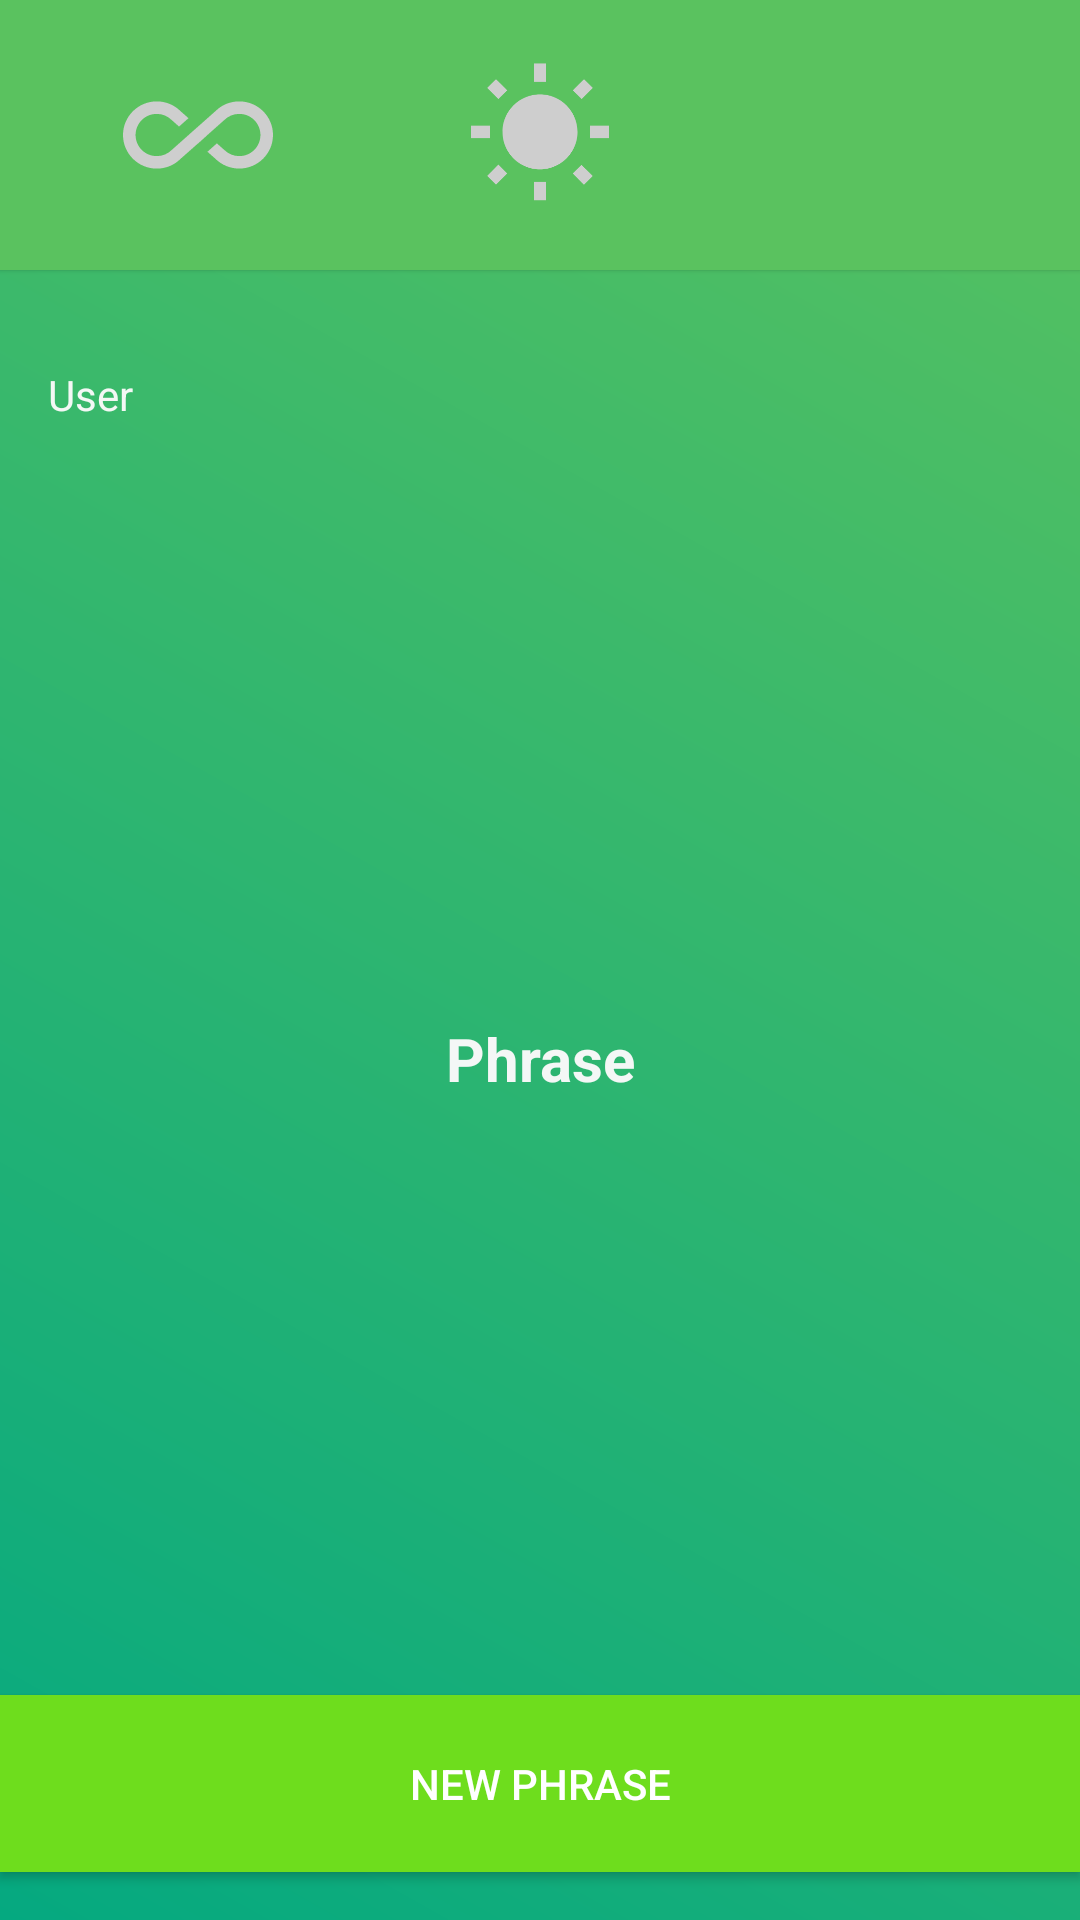

Icon bounding boxes for this 1080 × 1920 phone screenshot, format (left=x1, top=y1, right=x2, bottom=y2):
all: (left=123, top=101, right=273, bottom=169)
sun: (left=471, top=63, right=609, bottom=201)
